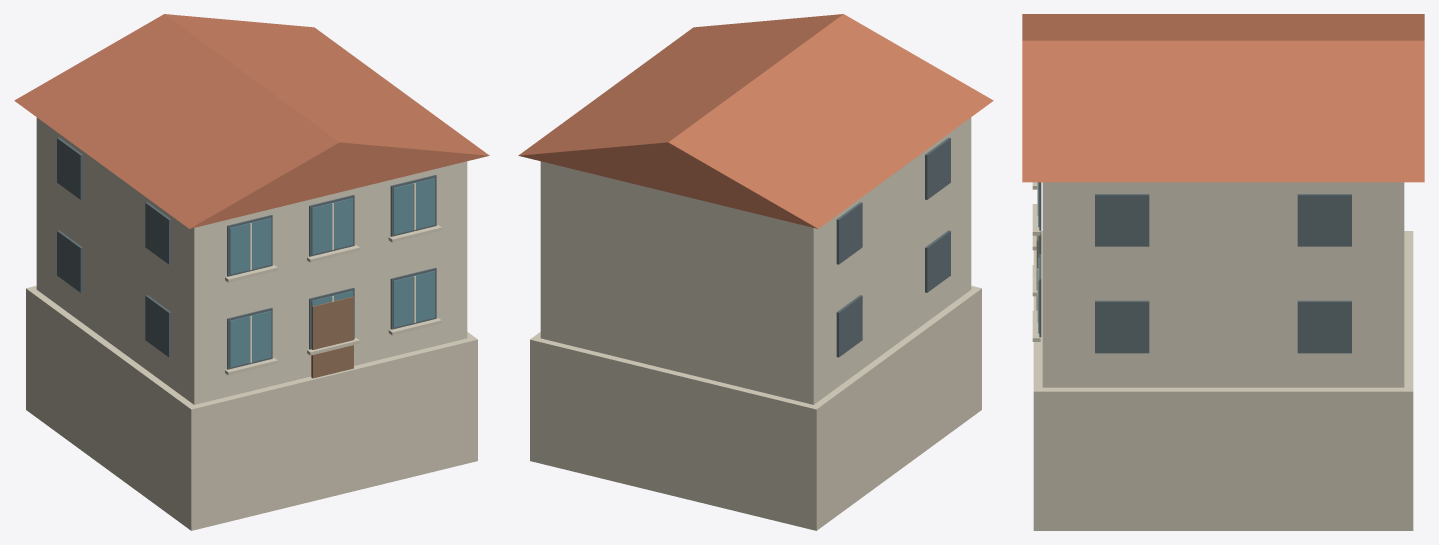
File: farm-1.glb
3 renders of one model, left to right at view 1: azimuth 30°, elevation 25°; view 2: azimuth 150°, elevation 25°; view 3: azimuth 270°, elevation 25°, orthographic. The views are drawn at different scales.
Bounding box in the file's own units: 8.8 × 10 × 8.9.
